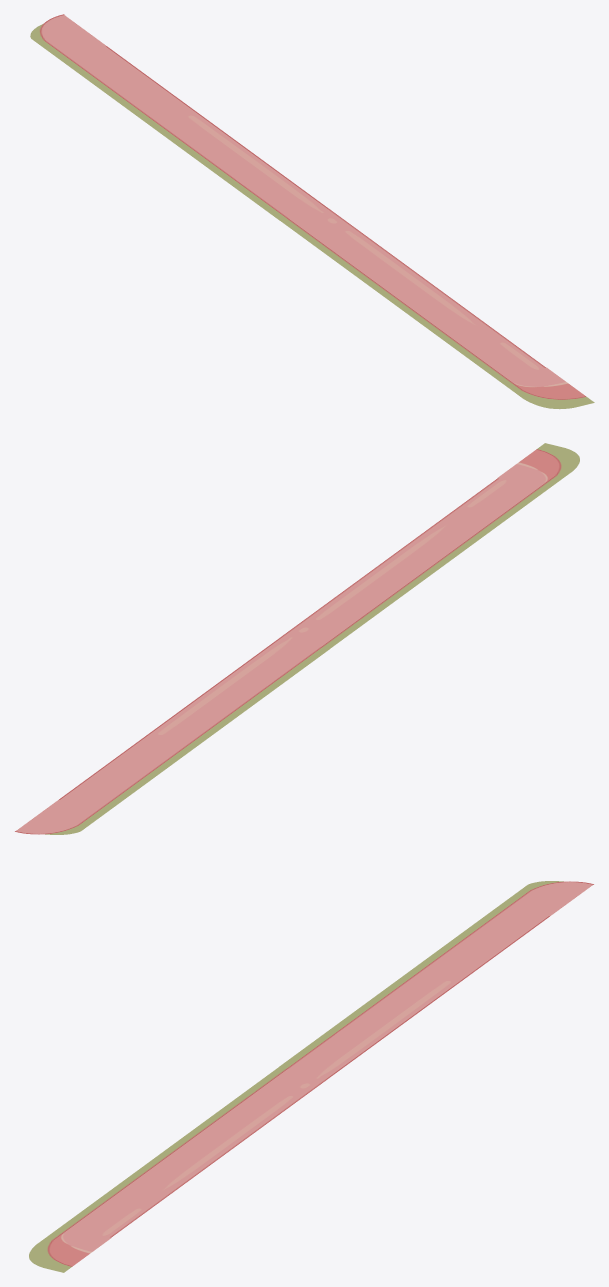
The model's file is Mesh_Activity_Pachinko_02_Shelf_03.fbx.
3 renders of one model, top to bottom at view 1: azimuth 30°, elevation 25°; view 2: azimuth 150°, elevation 25°; view 3: azimuth 330°, elevation 25°, orthographic.
Visible parts, largest first — view 1: Mesh_Activity_Pachinko_02_Shelf_03; view 2: Mesh_Activity_Pachinko_02_Shelf_03; view 3: Mesh_Activity_Pachinko_02_Shelf_03.
Boxes of the visible parts, x1,y1,x2,y2 form: Mesh_Activity_Pachinko_02_Shelf_03: (30,14,594,409); Mesh_Activity_Pachinko_02_Shelf_03: (15,443,579,834); Mesh_Activity_Pachinko_02_Shelf_03: (29,881,593,1272).
Bounding box in the file's own units: 53.37 × 0 × 985.
1 material, 1 textured.
